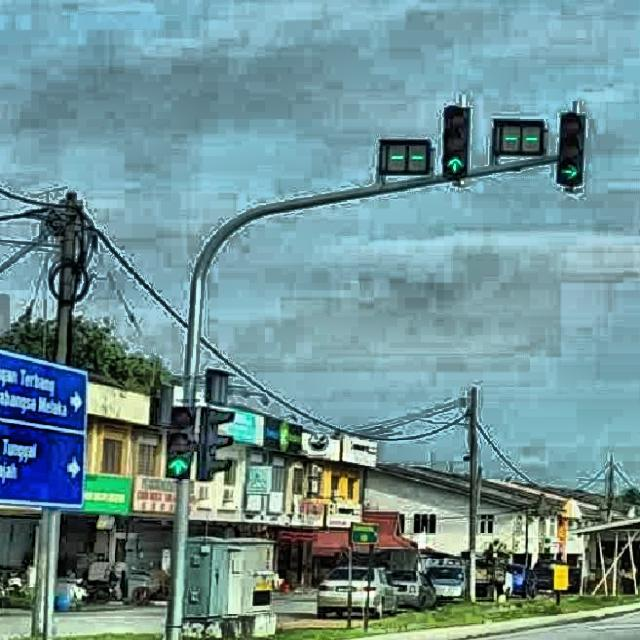green: (165, 404, 198, 477), (440, 106, 470, 176), (557, 112, 585, 182)
